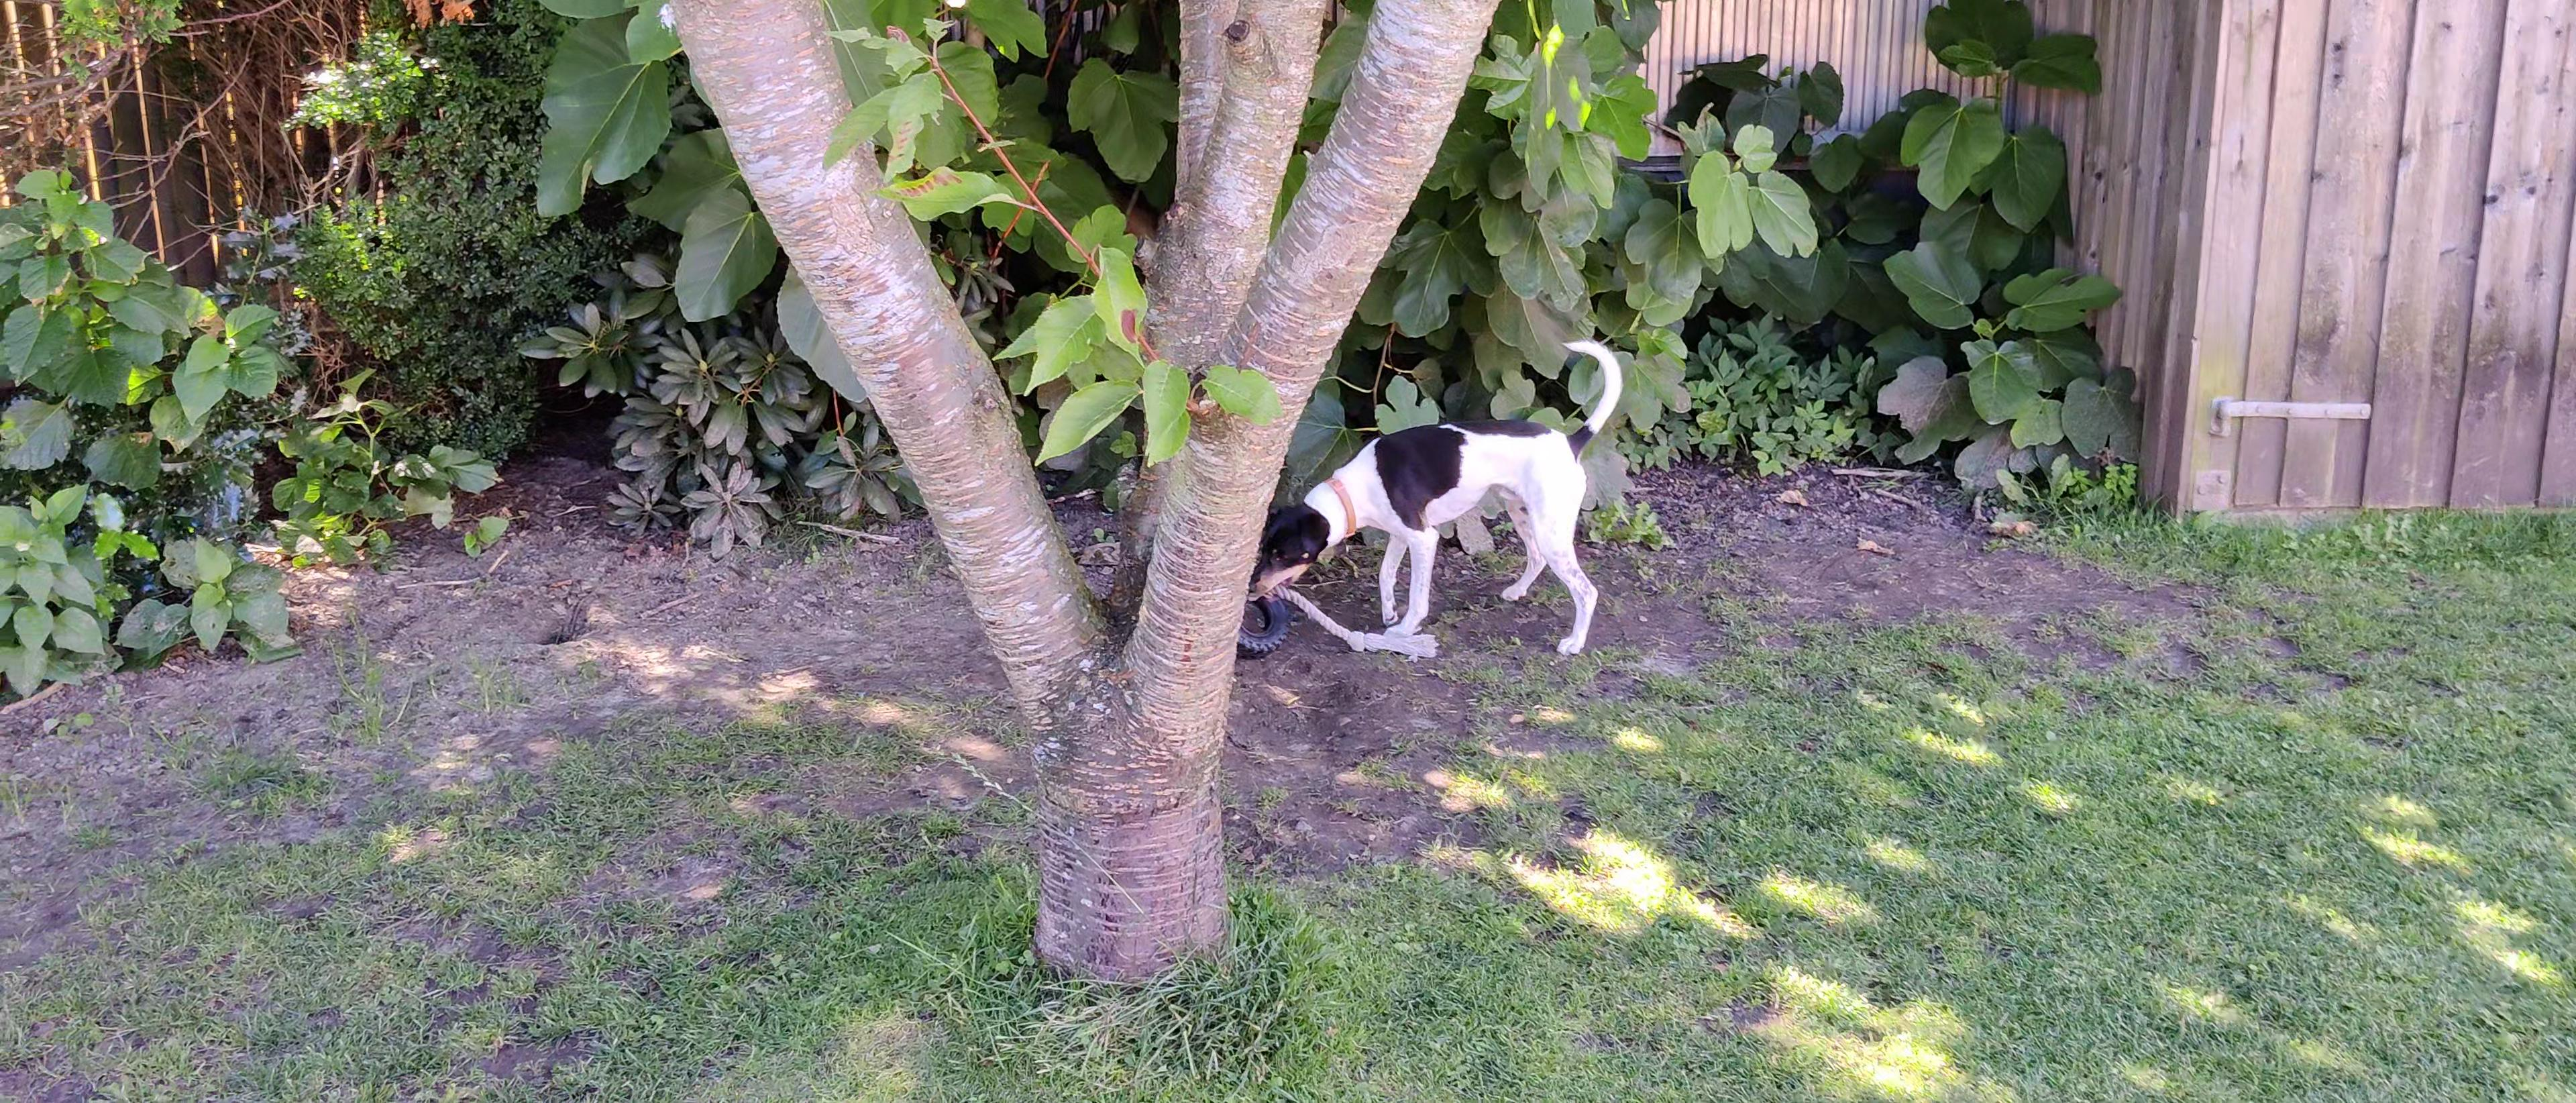Dog: (1249, 340, 1623, 658)
